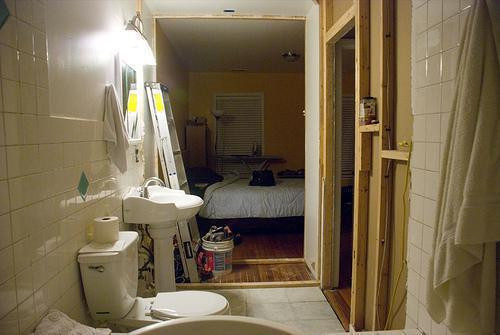Lavamanos: (127, 181, 204, 230)
Sanitario: (82, 237, 235, 334)
